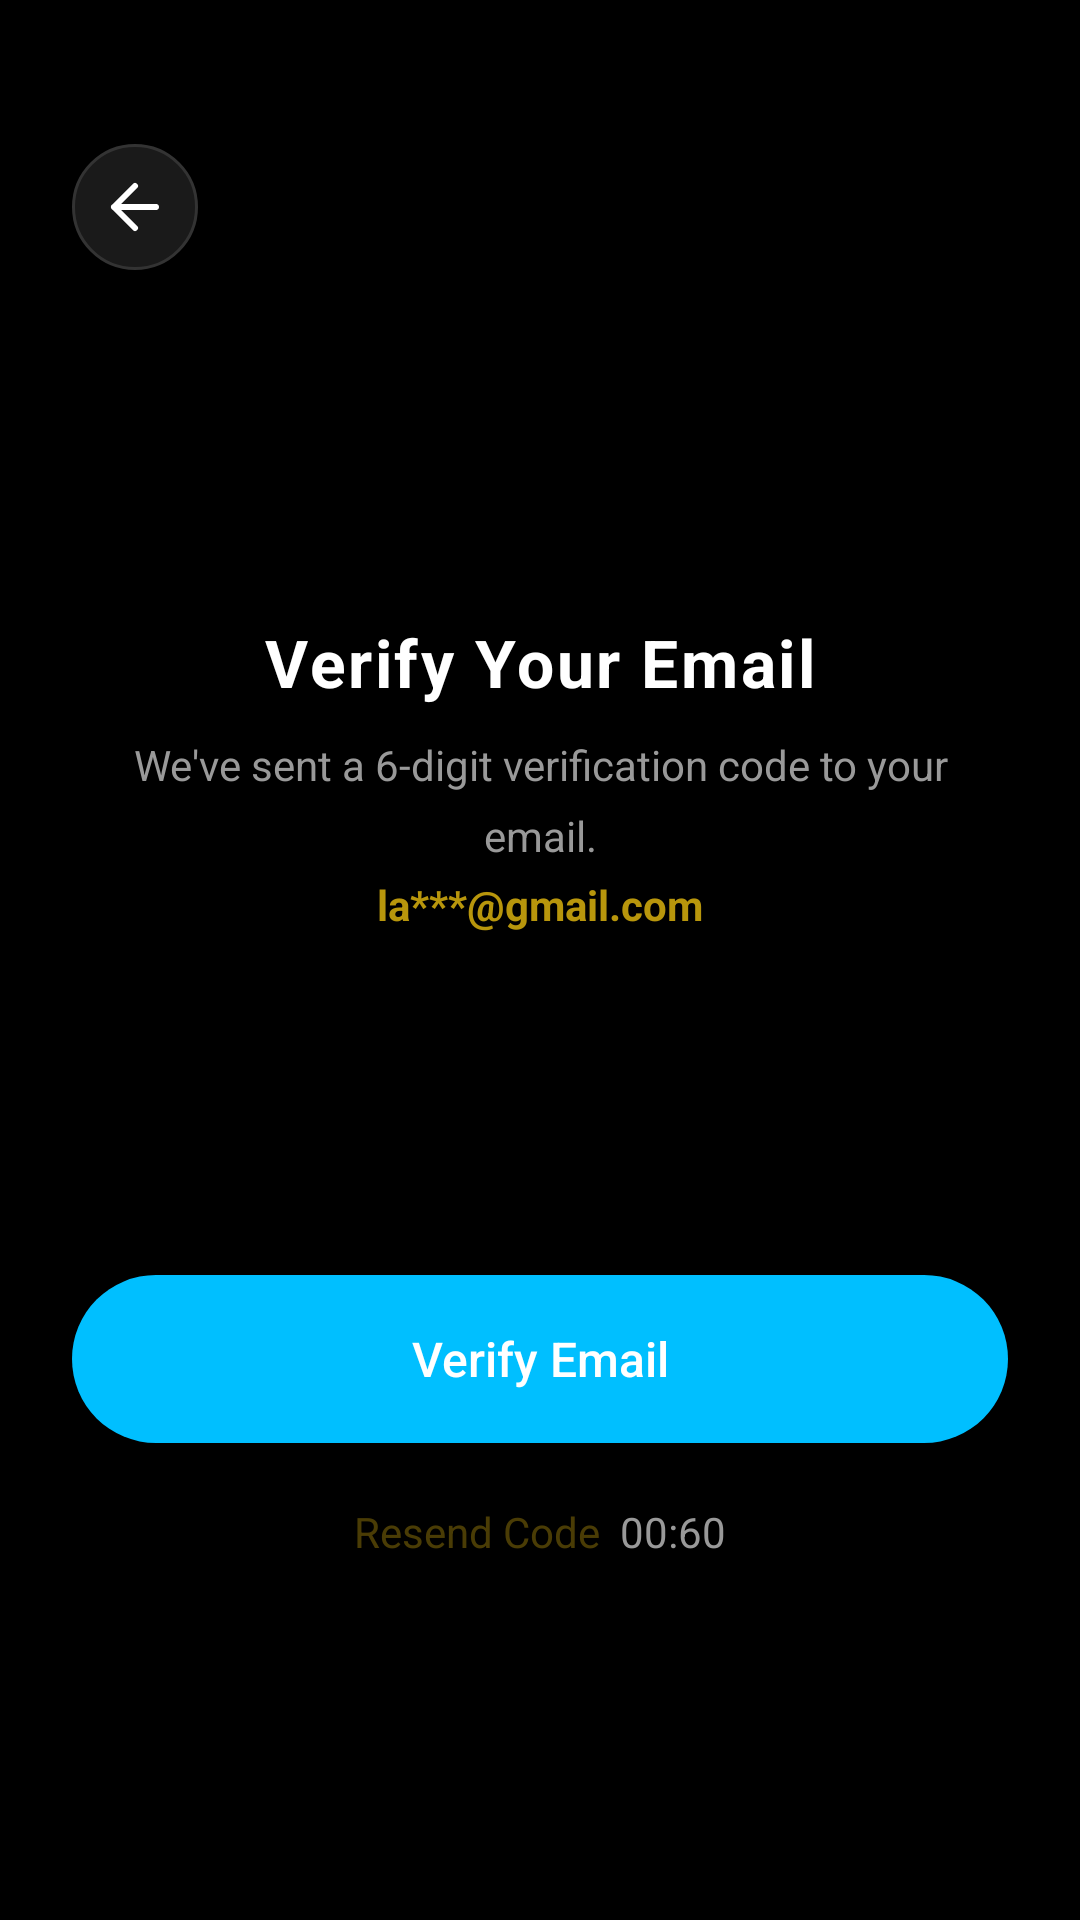

Icon click points for this 1080w x 1920h phone screenshot, format point (x, y):
Back: point (135, 207)
